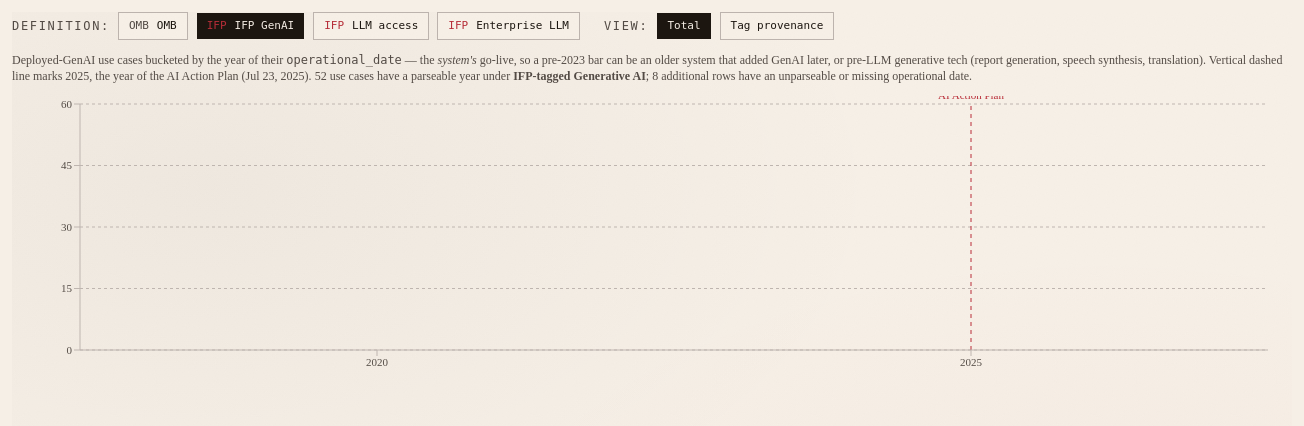
Scenario: GenAiTimelineChart provenance toggle › disables the provenance view for the OMB definition
What coordinates should you click on to do the following:
click the button "Tag provenance"
I would click on:
 (777, 26)
Its box is [720,12,834,40].
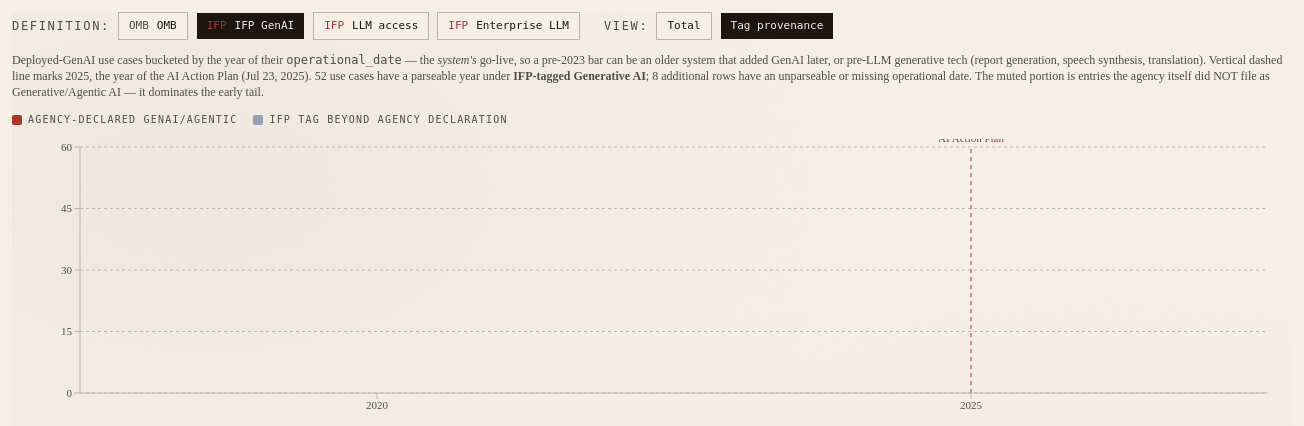
Note: Switch definition to OMB — provenance is declared-by-construction.
What coordinates should you click on to do the following:
click the button "OMB OMB"
I would click on:
 (153, 26)
Its box is [118,12,188,40].
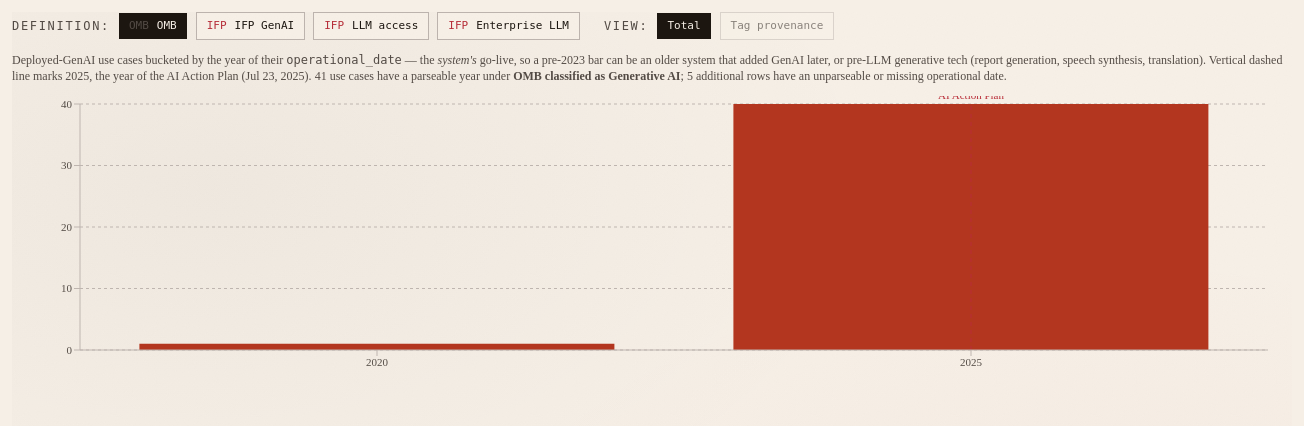
Result: the button "Tag provenance" is disabled at [720,12,834,40]
Result: the text "Agency-declared GenAI/Agentic" is gone
